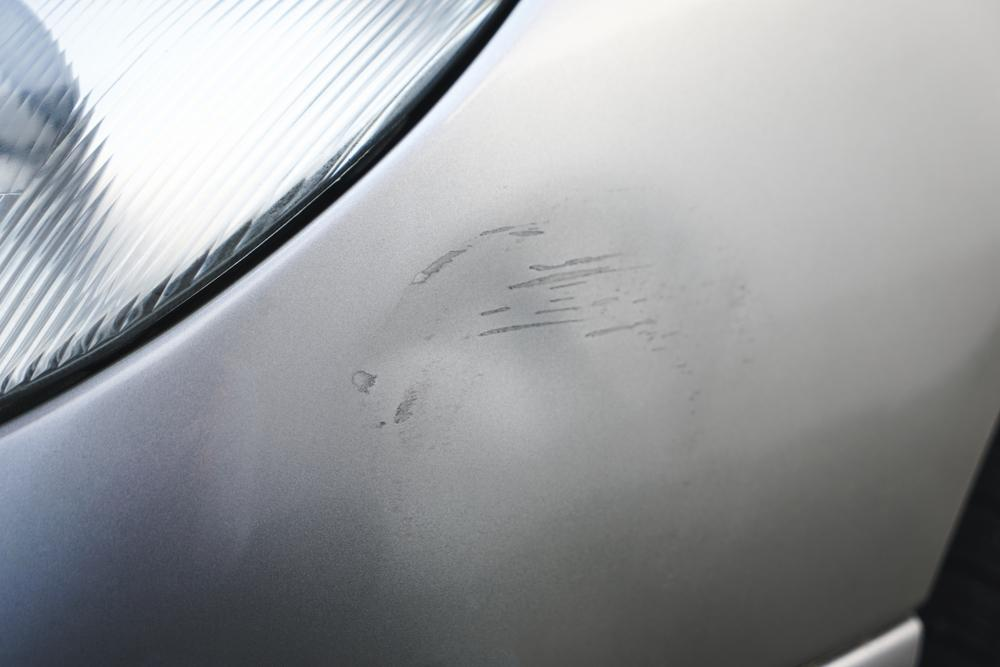dent: (359, 203, 704, 431)
